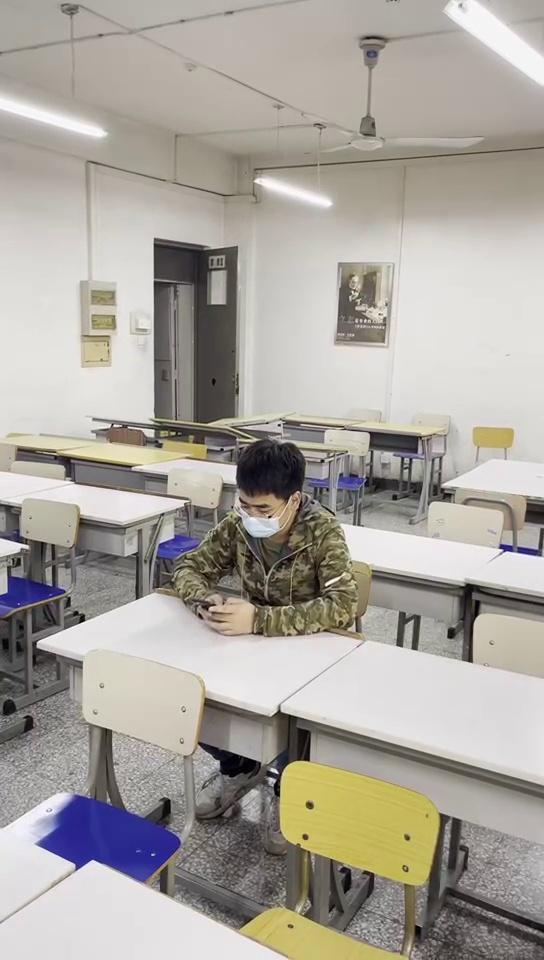phone: (171, 438, 362, 633)
